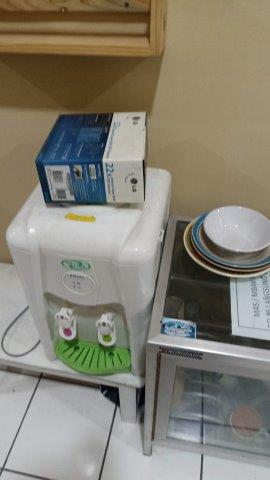kardus: (36, 112, 149, 203)
